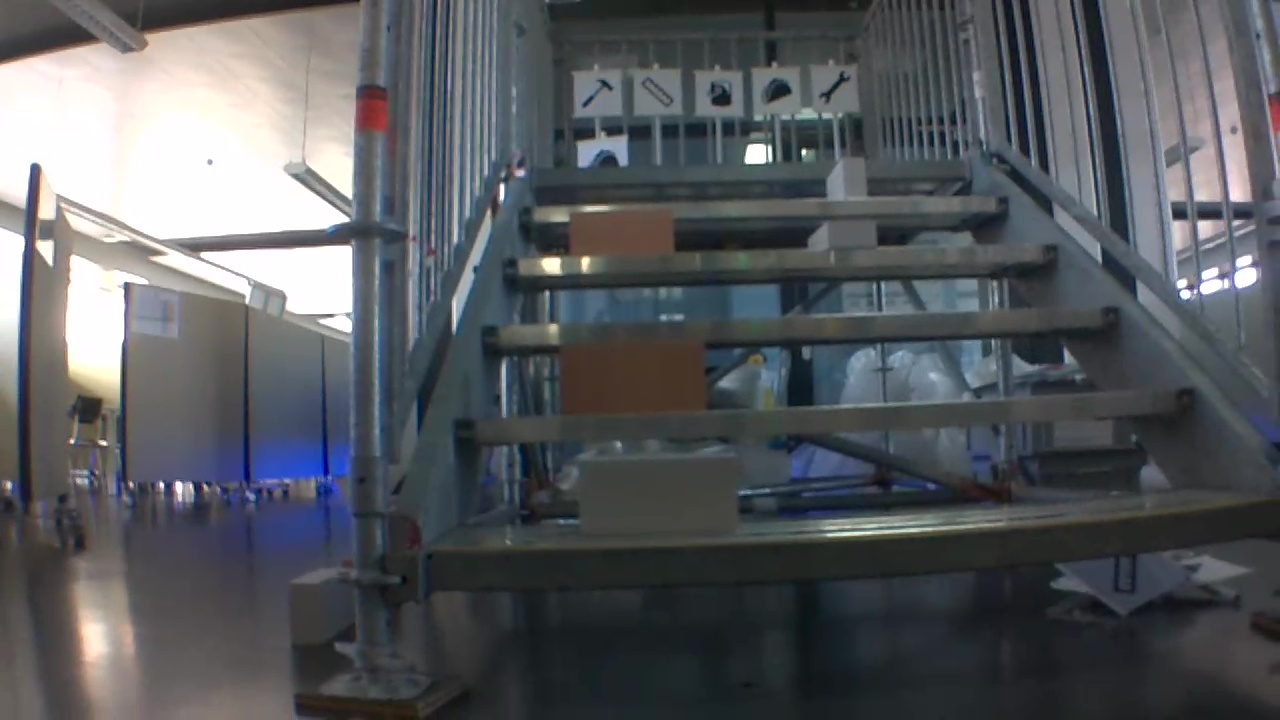brick: (580, 458, 738, 534), (560, 340, 703, 410), (570, 207, 670, 255), (286, 567, 348, 641), (807, 222, 877, 248), (827, 157, 864, 197)
bucket: (701, 74, 737, 111)
edge: (431, 498, 1272, 582), (454, 386, 1199, 440), (481, 304, 1123, 344), (502, 244, 1058, 273), (517, 196, 1007, 222), (532, 161, 974, 180)
hammer: (579, 74, 617, 112)
ruler: (636, 74, 677, 112)
stairs: (295, 3, 1280, 720)
steps: (426, 150, 1277, 624)
taco: (759, 72, 796, 105), (579, 144, 622, 167)
wrench: (814, 67, 854, 108)
